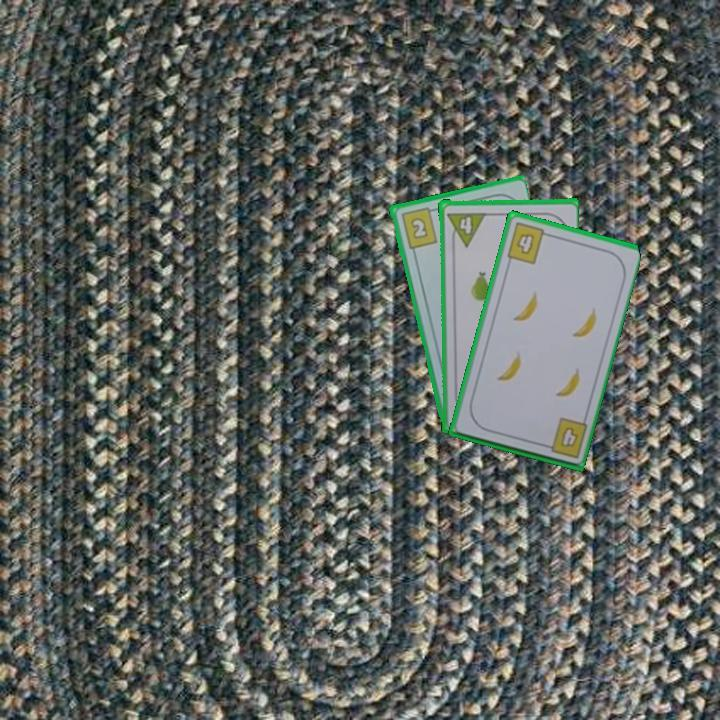2b: (397, 204, 440, 251)
4b: (538, 414, 590, 461), (503, 219, 553, 267)
4p: (455, 212, 487, 248)
